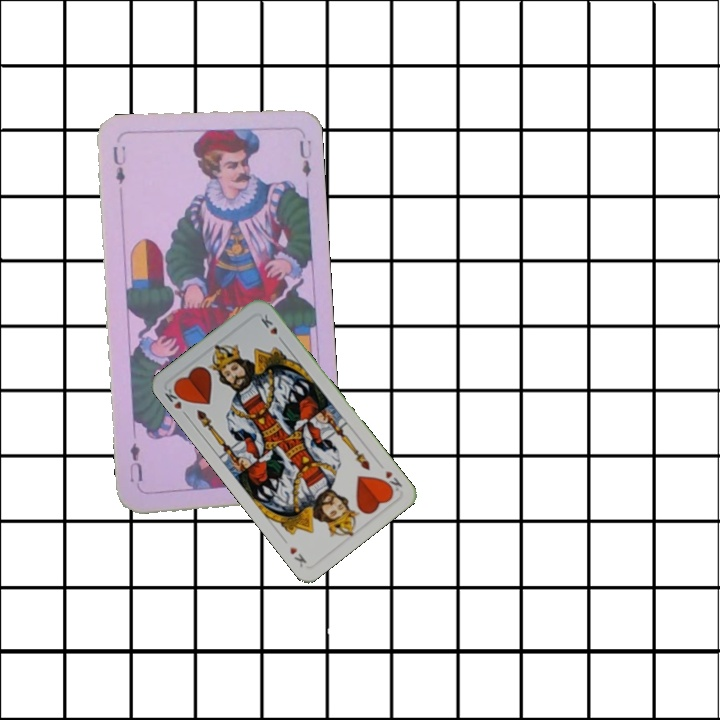EU: (108, 142, 129, 186)
HK: (161, 381, 191, 420), (378, 466, 405, 497)
